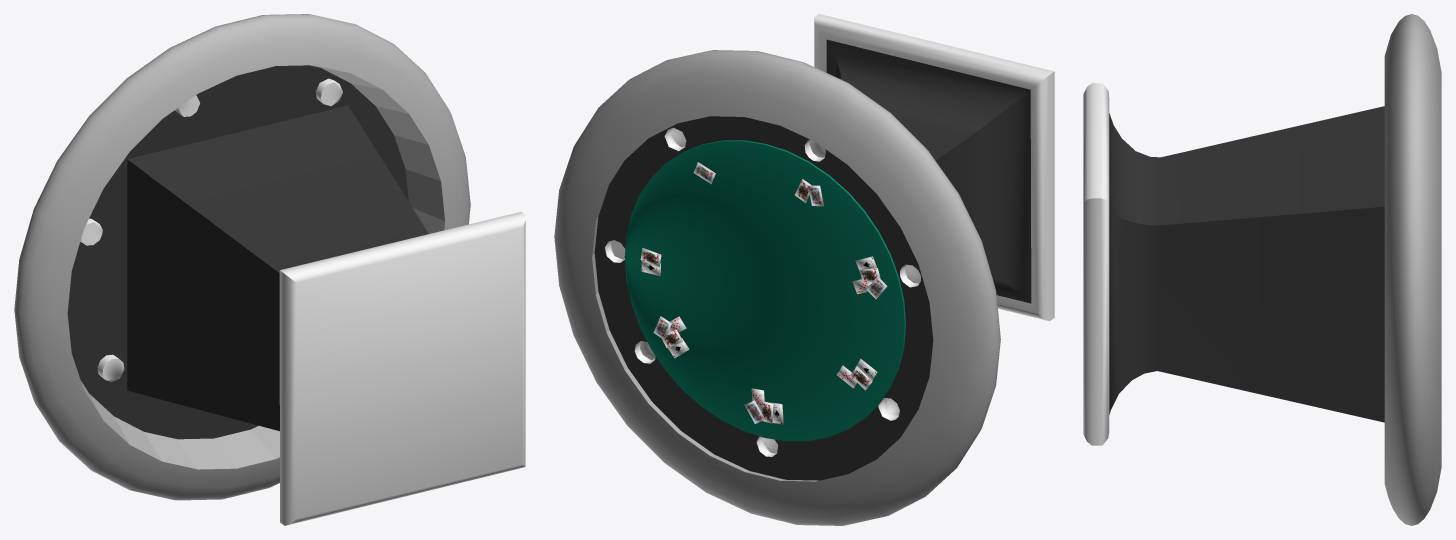
The model's file is gametableMar.fbx.
The picture shows the model from 3 angles, left to right: view 1: azimuth 30°, elevation 25°; view 2: azimuth 150°, elevation 25°; view 3: azimuth 270°, elevation 25°; orthographic projection. The views are drawn at different scales.
Parts seen in each view (by area): view 1: polySurface2834; view 2: polySurface2834; view 3: polySurface2834.
Part boxes in pixels (left/top/right/bottom): polySurface2834: left=14, top=14, right=525, bottom=525; polySurface2834: left=554, top=14, right=1054, bottom=525; polySurface2834: left=1083, top=14, right=1441, bottom=525.
Bounding box in the file's own units: 8311 × 8266 × 5796.
13 materials, 4 textured.
